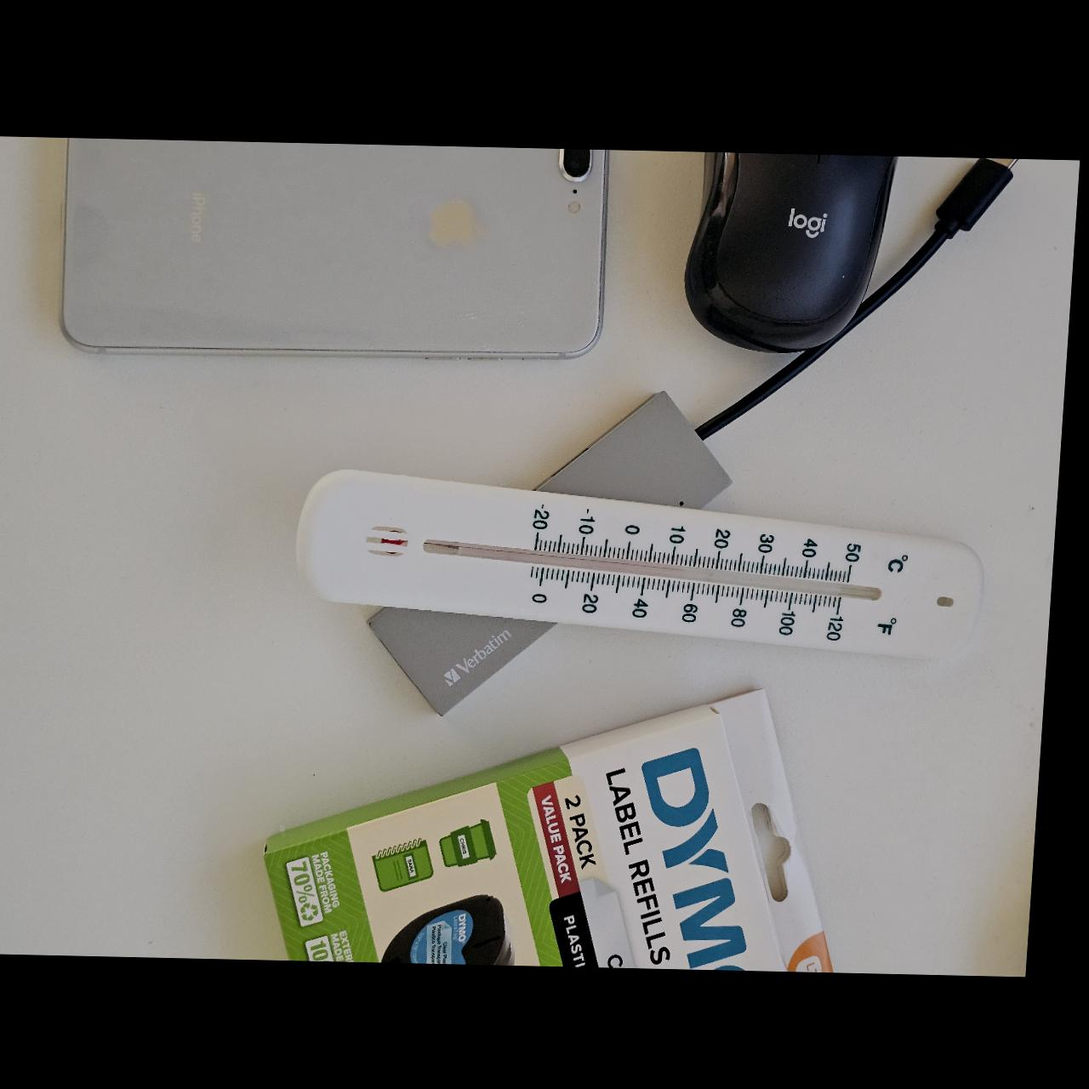thermometer: (288, 466, 991, 668)
